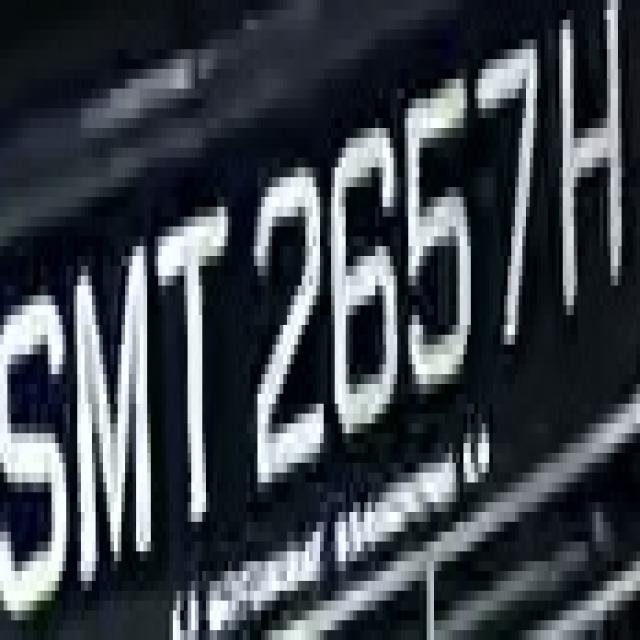2: (243, 148, 331, 522)
5: (397, 69, 478, 423)
6: (316, 98, 401, 463)
7: (467, 10, 552, 364)
H: (548, 39, 625, 335)
M: (66, 227, 162, 600)
S: (0, 256, 66, 601)
T: (136, 187, 239, 581)
